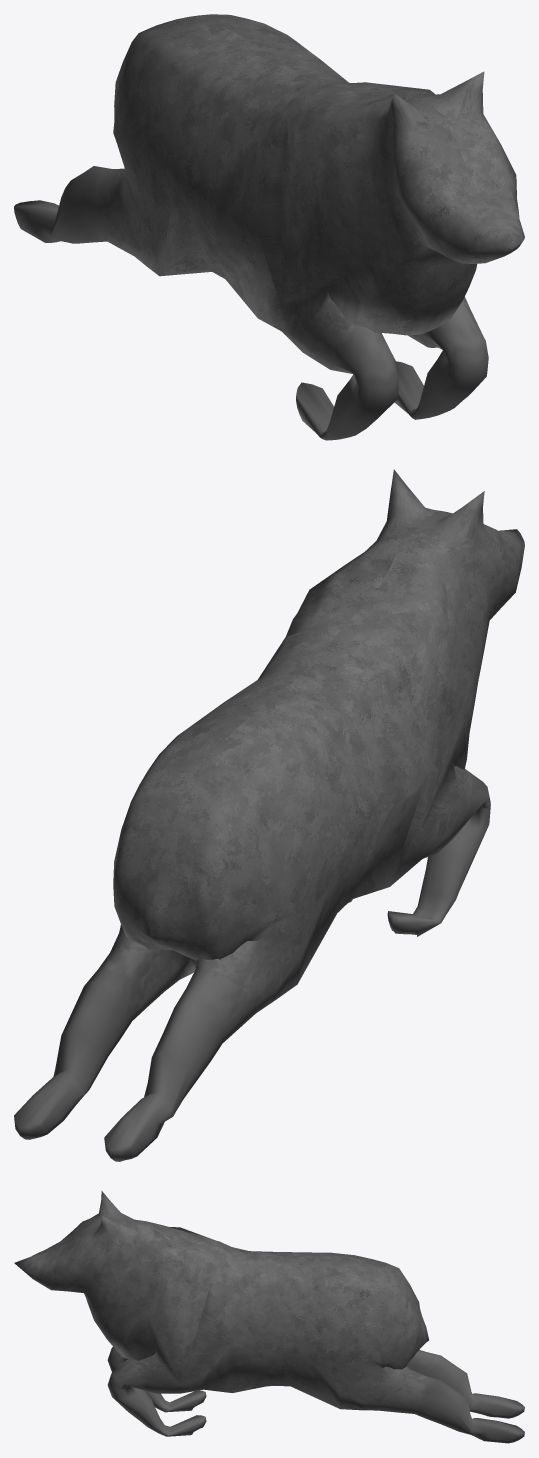
Rendered from piesblend_000021.obj.
The picture shows the model from 3 angles, top to bottom: view 1: azimuth 30°, elevation 25°; view 2: azimuth 150°, elevation 25°; view 3: azimuth 270°, elevation 25°; orthographic projection. The views are drawn at different scales.
Parts seen in each view (by area): view 1: Cube; view 2: Cube; view 3: Cube.
Part boxes in pixels (x1,y1,x2,y2): Cube: [14, 14, 524, 440]; Cube: [14, 469, 524, 1161]; Cube: [14, 1191, 524, 1443].
Size of the model in its own units: 2.55 by 5.37 by 10.89.
1 material, 1 textured.
